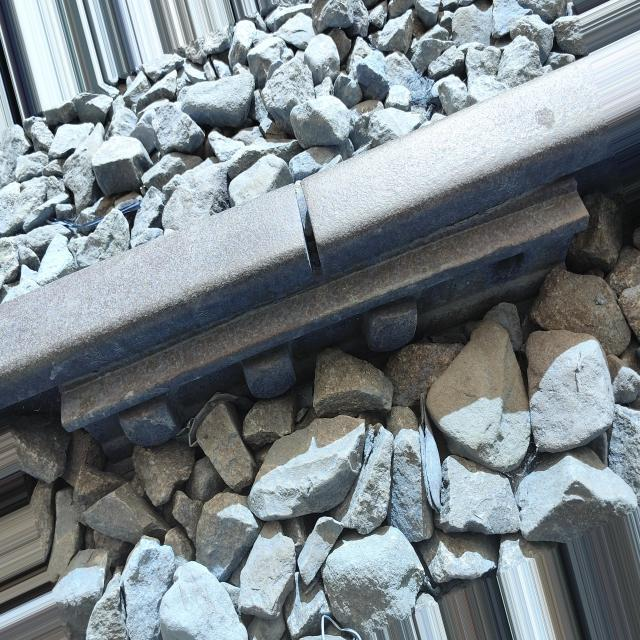Defective Joint: (66, 182, 588, 466)
